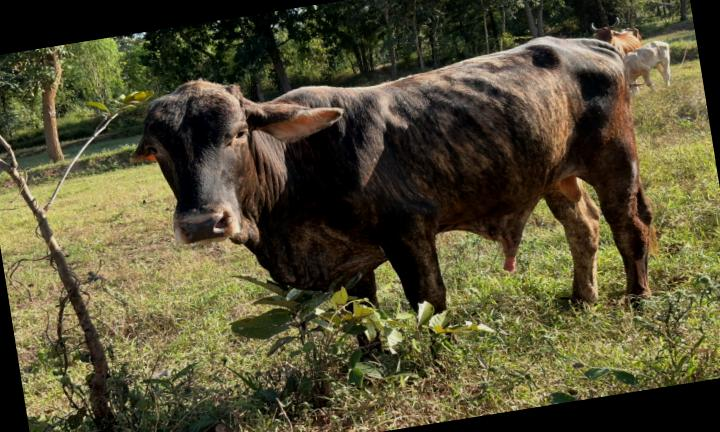Charolais: (132, 36, 653, 311), (132, 36, 653, 310)
